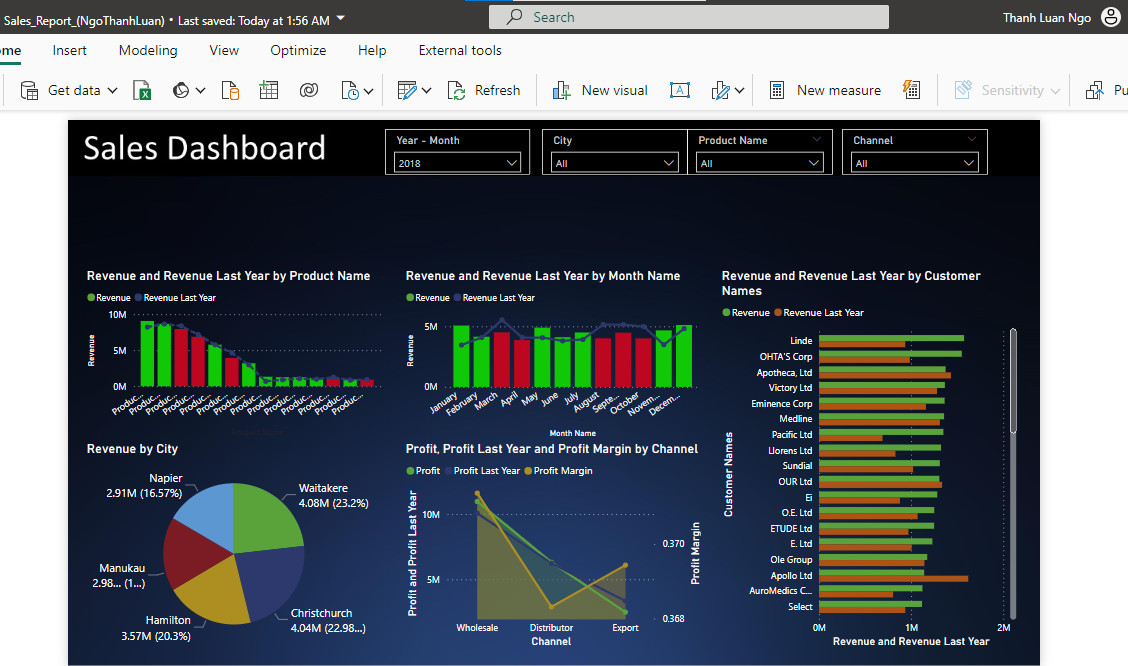

This screenshot's page, from the dashboard's own definition file:
{"tool":"powerbi","page":{"name":"Sales Report","canvas":[1280,720],"ordinal":0},"visuals":[{"type":"slicer","fields":{"Values":["Date.Year","Date.Month Short Name"]},"box":[421.2,10,170,60],"z":0},{"type":"slicer","fields":{"Values":["Regions_Table.City"]},"box":[640,10,170,60],"z":1000},{"type":"slicer","fields":{"Values":["Products_Data.Product Name"]},"box":[851.2,10,170,60],"z":2000},{"type":"slicer","fields":{"Values":["Sales_Data.Channel"]},"box":[1047.5,10,170,60],"z":3000},{"type":"lineClusteredColumnComboChart","fields":{"Y":["All_Measure.Revenue"],"Y2":["All_Measure.Revenue Last Year"],"Category":["Products_Data.Product Name"]},"box":[7.5,180,433.8,240],"z":4000},{"type":"pieChart","fields":{"Y":["All_Measure.Revenue"],"Category":["Regions_Table.City"]},"box":[7.9,439.5,434.2,240.8],"z":5000},{"type":"areaChart","fields":{"Category":["Sales_Data.Channel"],"Y":["All_Measure.Profit","All_Measure.Profit Last Year"],"Y2":["All_Measure.Profit Margin"]},"box":[453.9,439.5,432.9,240.8],"z":6000},{"type":"clusteredBarChart","fields":{"Category":["Customer_Data.Customer Names"],"Y":["All_Measure.Revenue","All_Measure.Revenue Last Year"]},"box":[901.2,180,370,500],"z":7000},{"type":"lineClusteredColumnComboChart","fields":{"Y":["All_Measure.Revenue"],"Y2":["All_Measure.Revenue Last Year"],"Category":["Date.Month Short Name"]},"box":[453.8,180,433.8,240],"z":8000},{"type":"cardVisual","fields":{"Data":["All_Measure.Revenue","All_Measure.Profit","All_Measure.Profit Margin","All_Measure.Product Sold"]},"box":[7.5,70,1263.8,101.2],"z":9000},{"type":"cardVisual","title":"vs PY %","fields":{"Data":["All_Measure.Revenue Compare with Last Year %"]},"box":[233.8,83.8,106.2,75],"z":10000},{"type":"cardVisual","title":"vs PY %","fields":{"Data":["All_Measure.Profit vs PY %"]},"box":[533.8,83.8,106.2,75],"z":11000}]}

Visuals, with their boxes on the page's 1280x720 design canvas (x1, y1, x2, y2). These are canvas units, not pixel positions in the 1128x666 screenshot, which may show the page scaled, cropped or inside an application window:
slicer - Date.Year x Date.Month Short Name: [x1=421, y1=10, x2=591, y2=70]
slicer - Regions_Table.City: [x1=640, y1=10, x2=810, y2=70]
slicer - Products_Data.Product Name: [x1=851, y1=10, x2=1021, y2=70]
slicer - Sales_Data.Channel: [x1=1048, y1=10, x2=1218, y2=70]
lineClusteredColumnComboChart - All_Measure.Revenue x All_Measure.Revenue Last Year: [x1=8, y1=180, x2=441, y2=420]
pieChart - All_Measure.Revenue x Regions_Table.City: [x1=8, y1=440, x2=442, y2=680]
areaChart - Sales_Data.Channel x All_Measure.Profit: [x1=454, y1=440, x2=887, y2=680]
clusteredBarChart - Customer_Data.Customer Names x All_Measure.Revenue: [x1=901, y1=180, x2=1271, y2=680]
lineClusteredColumnComboChart - All_Measure.Revenue x All_Measure.Revenue Last Year: [x1=454, y1=180, x2=888, y2=420]
cardVisual - All_Measure.Revenue x All_Measure.Profit: [x1=8, y1=70, x2=1271, y2=171]
"vs PY %" cardVisual: [x1=234, y1=84, x2=340, y2=159]
"vs PY %" cardVisual: [x1=534, y1=84, x2=640, y2=159]
